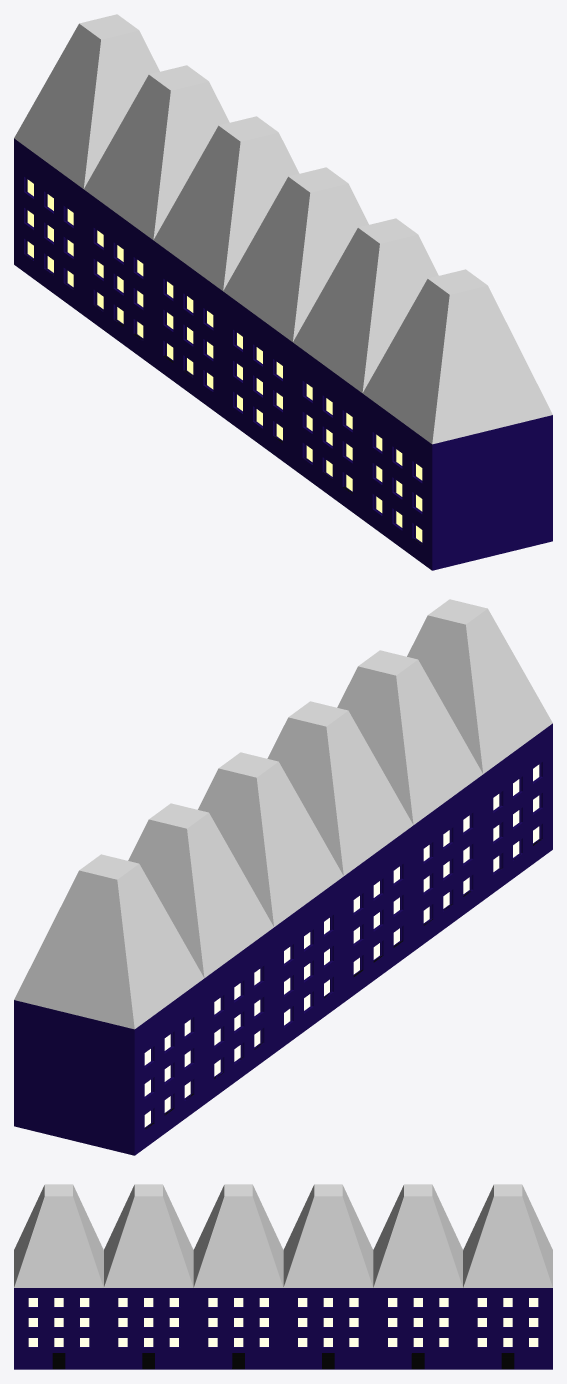
Rendered from 3_storey_house_4(6).fbx.
3 views of the same model, one above another, from view 1: azimuth 30°, elevation 25°; view 2: azimuth 150°, elevation 25°; view 3: azimuth 270°, elevation 25° (orthographic). The views are drawn at different scales.
Parts seen in each view (by area): view 1: Cube; view 2: Cube; view 3: Cube.
Part boxes in pixels (x1,y1,x2,y2): Cube: (14, 14, 552, 570); Cube: (14, 599, 552, 1155); Cube: (14, 1184, 552, 1369).
Size of the model in its own units: 28 by 55.07 by 168.
